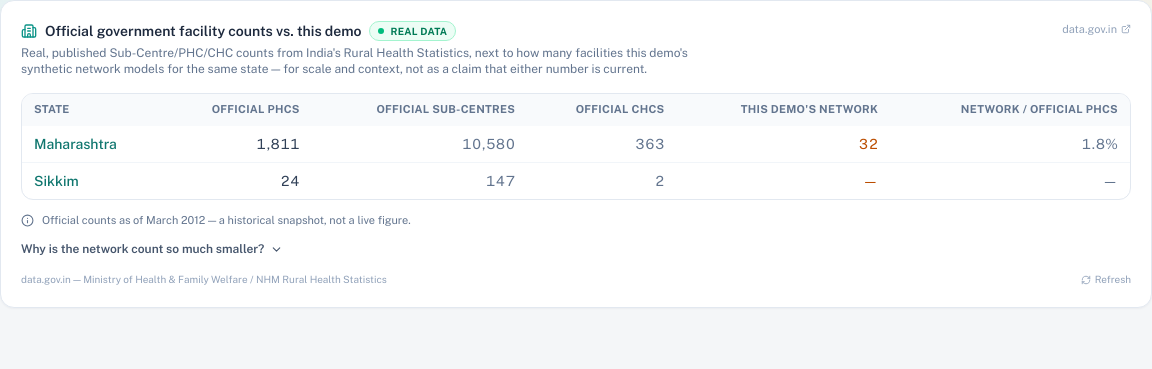
Test: FacilityCountBenchmark › the disclaimer is collapsed by default and expands on request
This screenshot has width=1152, height=369.
expect the link "Maharashtra" is shown: met, box [34,136,117,152]
expect the text "Official counts are a historical snapshot, not a live figure." is not shown: met
Click the button "Why is the network count so much smaller?" at (152, 250), box [21,242,283,258]
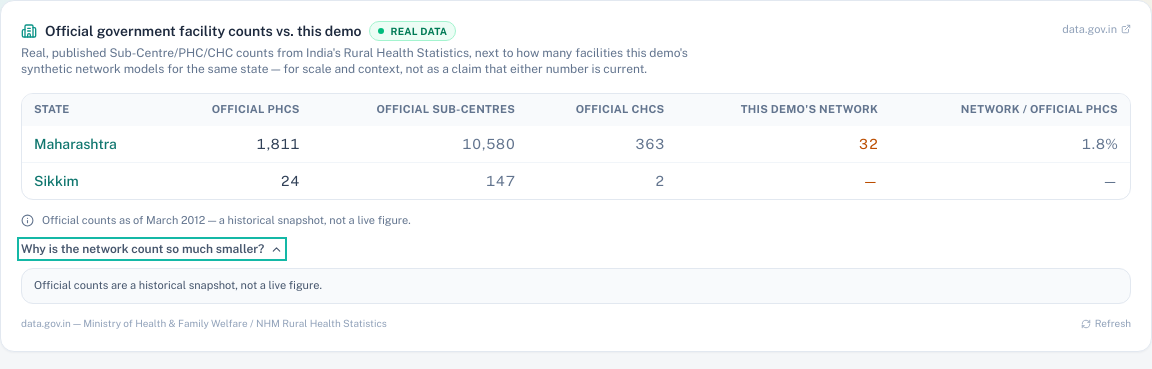
expect the text "Official counts are a historical snapshot, not a live figure." is shown: met, box [21,268,1131,304]
